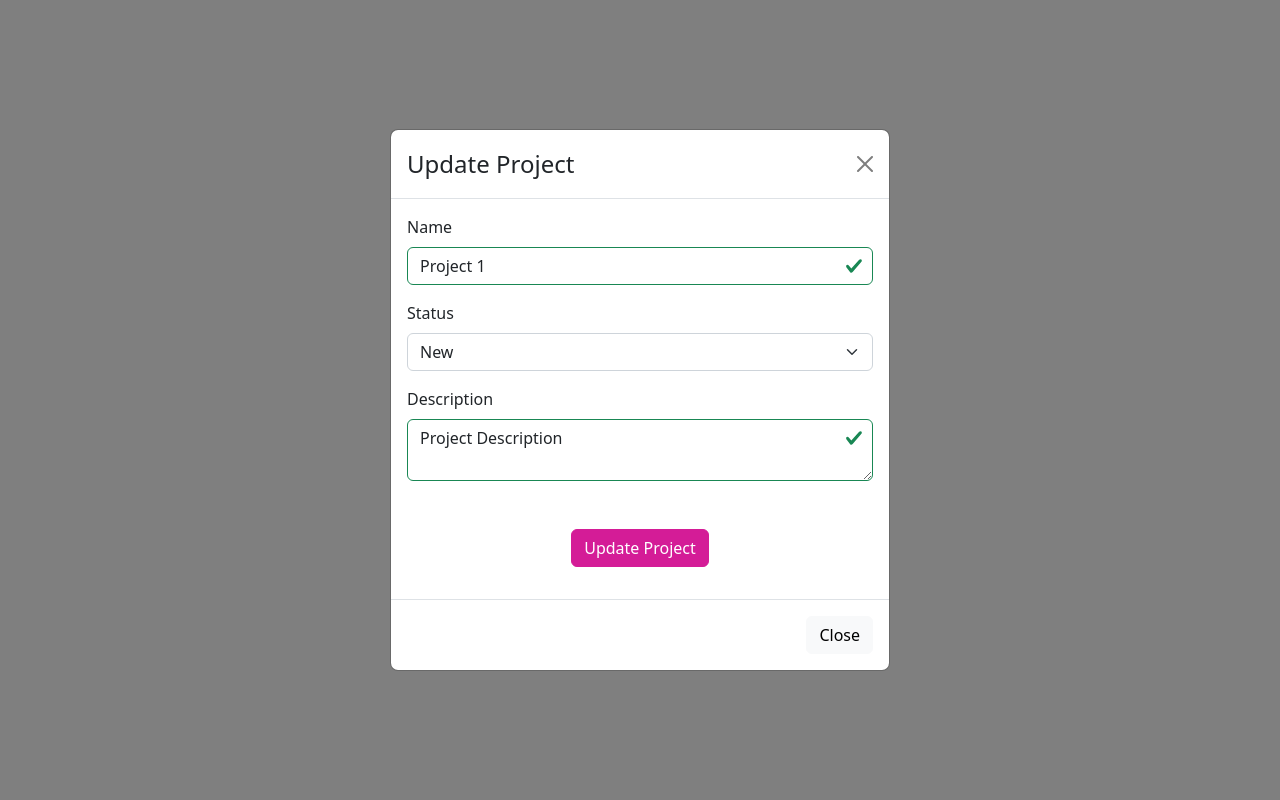
it: EditProject component › Should show error while user inputs wrong data
Replace the text in the field labelled "Name" with "ab" at (640, 266), box [407,247,873,285]
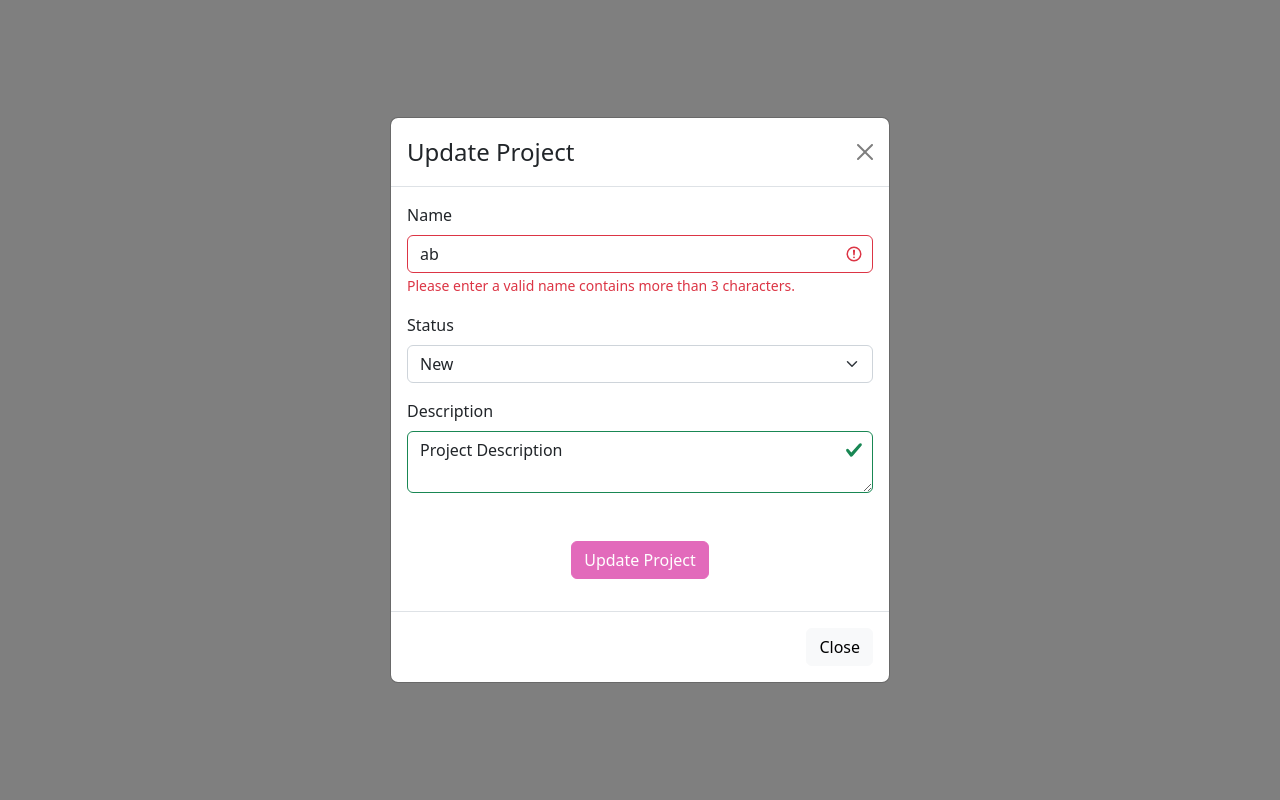
Replace the text in the text box labelled "Description" with "ab" at (640, 462), box [407,431,873,493]
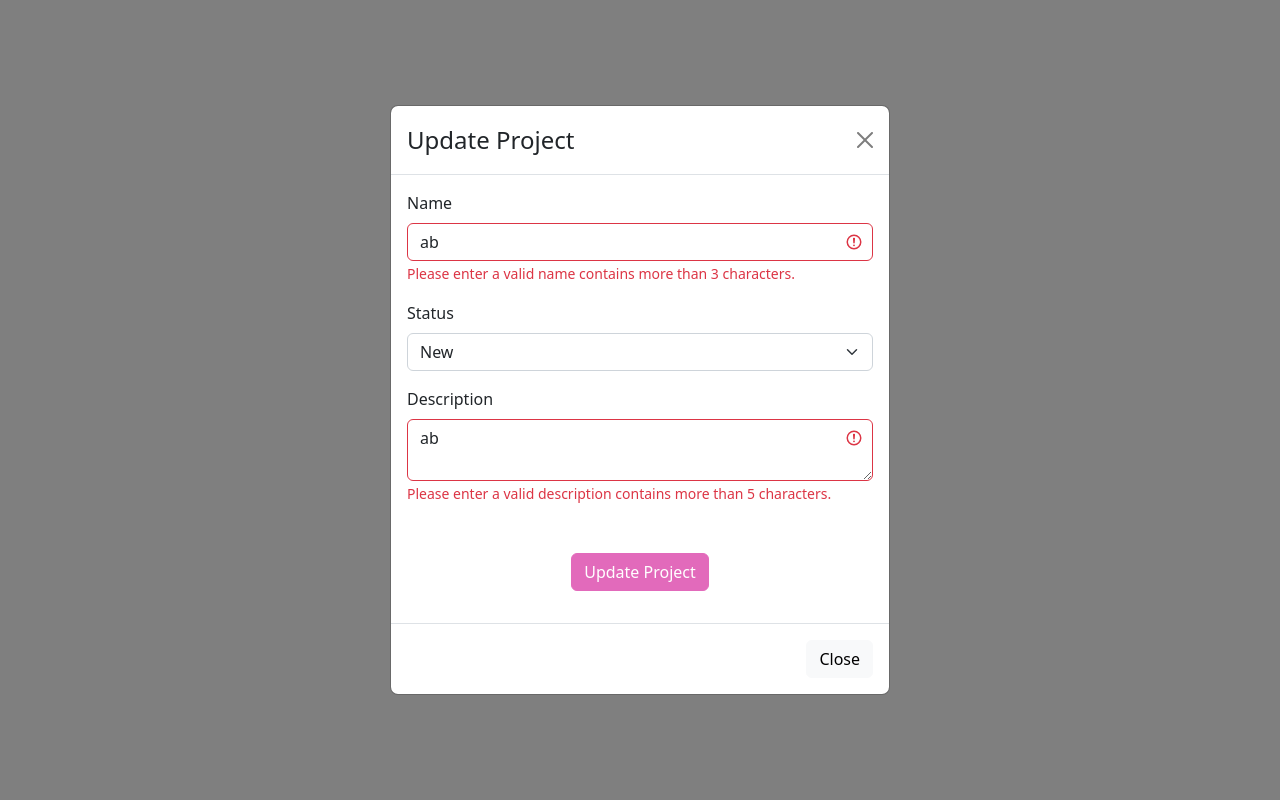
Result: the button "Update Project" is disabled at [571,553,709,591]
Result: the text "Please enter a valid name contains more than 3 characters." is shown at [407,264,795,283]
Result: the text "Please enter a valid description contains more than 5 characters." is shown at [407,484,831,503]
